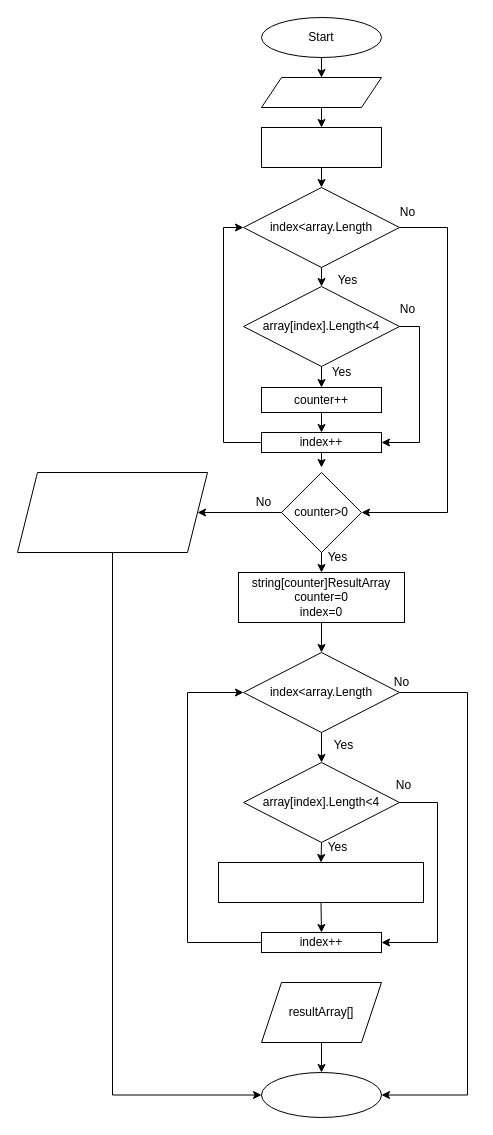
The diagram is 493 pixels wide and 1135 high, and some of its shapes have lost their labels. Each missing label, with the box of its shape:
"в массиве нет строк из 3х символов и менее": (16, 472, 208, 552)
End: (260, 1072, 382, 1118)
index=0 counter=0: (260, 126, 382, 168)
ResultArray[counter] =array[index] counter++: (218, 862, 424, 902)
string[] array: (260, 76, 382, 108)
